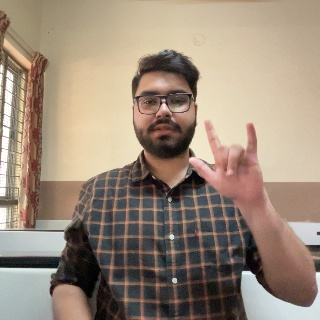I Love You: (184, 118, 279, 216)
